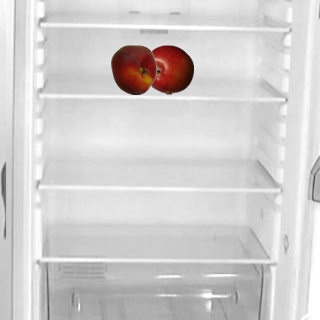Apple Braeburn: (143, 44, 193, 94)
Nectarine Flat: (108, 44, 158, 94)
